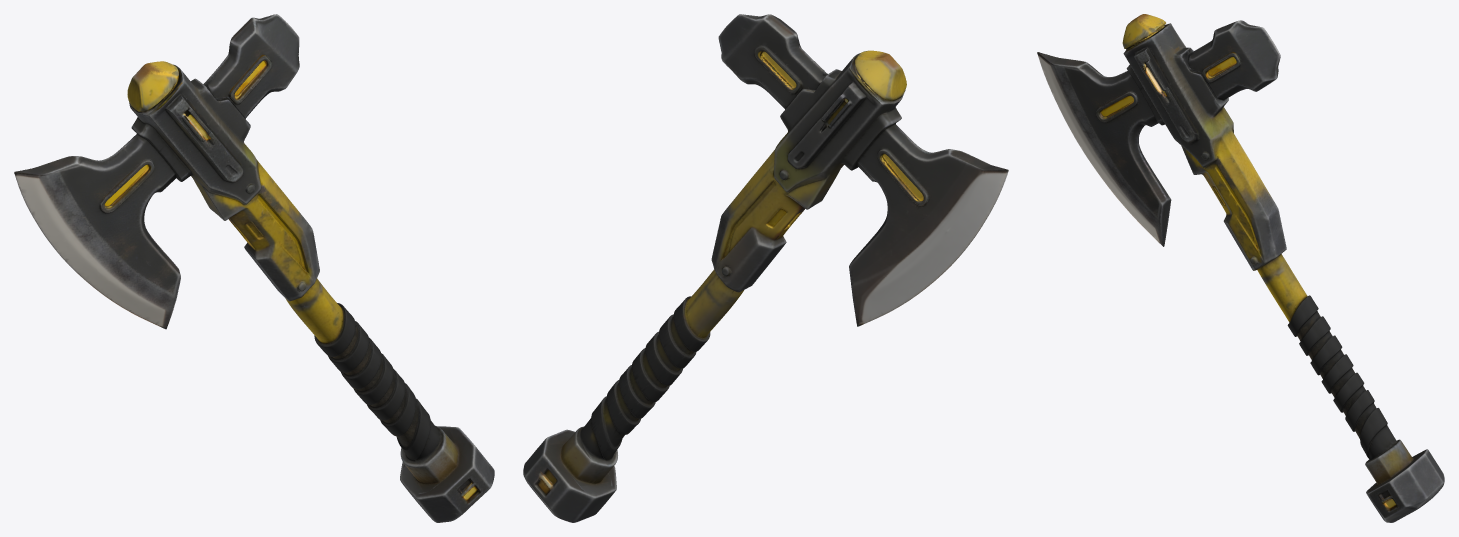
3 renders of one model, left to right at view 1: azimuth 30°, elevation 25°; view 2: azimuth 150°, elevation 25°; view 3: azimuth 330°, elevation 25°, orthographic. The views are drawn at different scales.
Visible parts, largest first — view 1: Mesh_0; view 2: Mesh_0; view 3: Mesh_0.
Boxes of the visible parts, x1,y1,x2,y2 form: Mesh_0: (14,14,494,522); Mesh_0: (523,14,1008,522); Mesh_0: (1037,14,1444,522).
Size of the model in its own units: 1.74 by 1.91 by 0.3031.
1 material, 1 textured.
